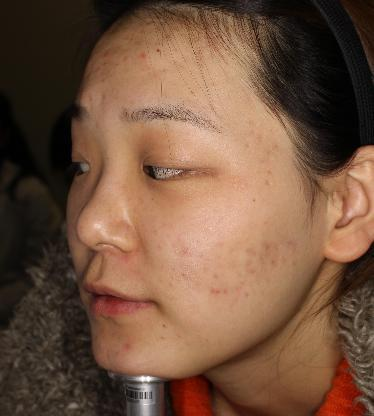Blackheads: (151, 42, 168, 59)
acne scar: (178, 243, 202, 259), (258, 237, 277, 256), (119, 337, 138, 353), (207, 283, 224, 300), (135, 49, 150, 62)
